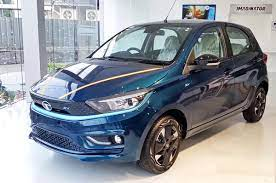Tiago: (27, 18, 269, 174)
